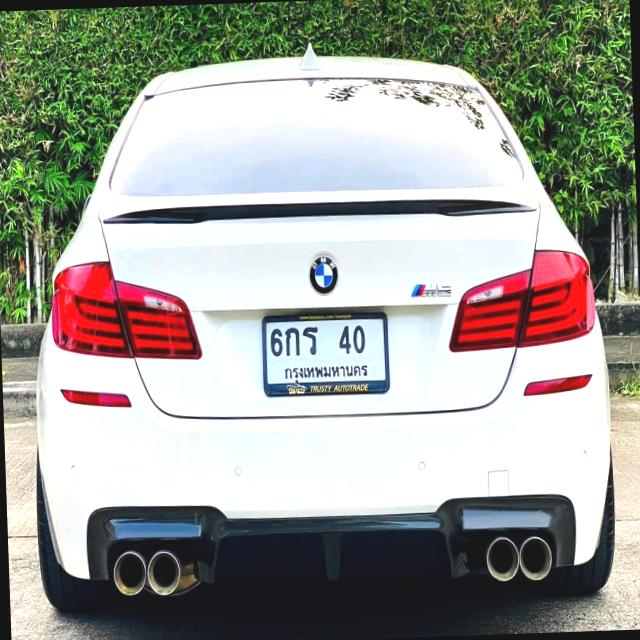license_plate: (260, 308, 390, 398)
